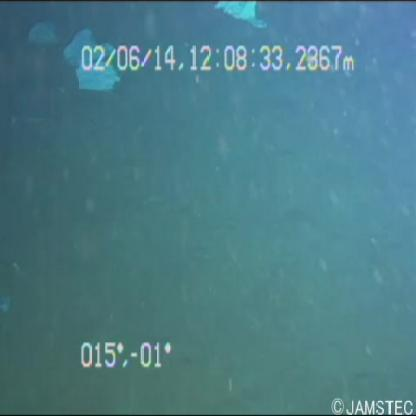Rác: (62, 21, 126, 96)
